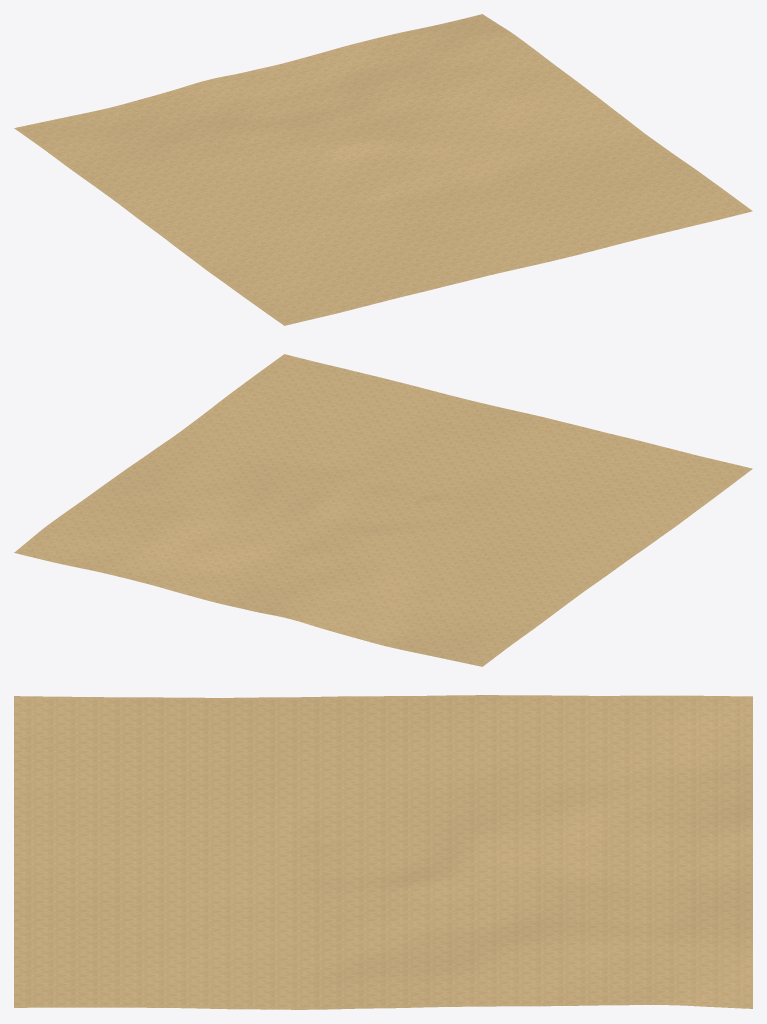
Rendered from house_floor.obj.
3 renders of one model, top to bottom at view 1: azimuth 30°, elevation 25°; view 2: azimuth 150°, elevation 25°; view 3: azimuth 270°, elevation 25°, orthographic. The views are drawn at different scales.
Visible parts, largest first — view 1: house_floor; view 2: house_floor; view 3: house_floor.
Boxes of the visible parts, x1=… form: house_floor: x1=14, y1=14, x2=752, y2=325; house_floor: x1=14, y1=354, x2=752, y2=666; house_floor: x1=14, y1=695, x2=752, y2=1009.
Bounding box in the file's own units: 200 × 2.76 × 200.
1 material, 1 textured.
